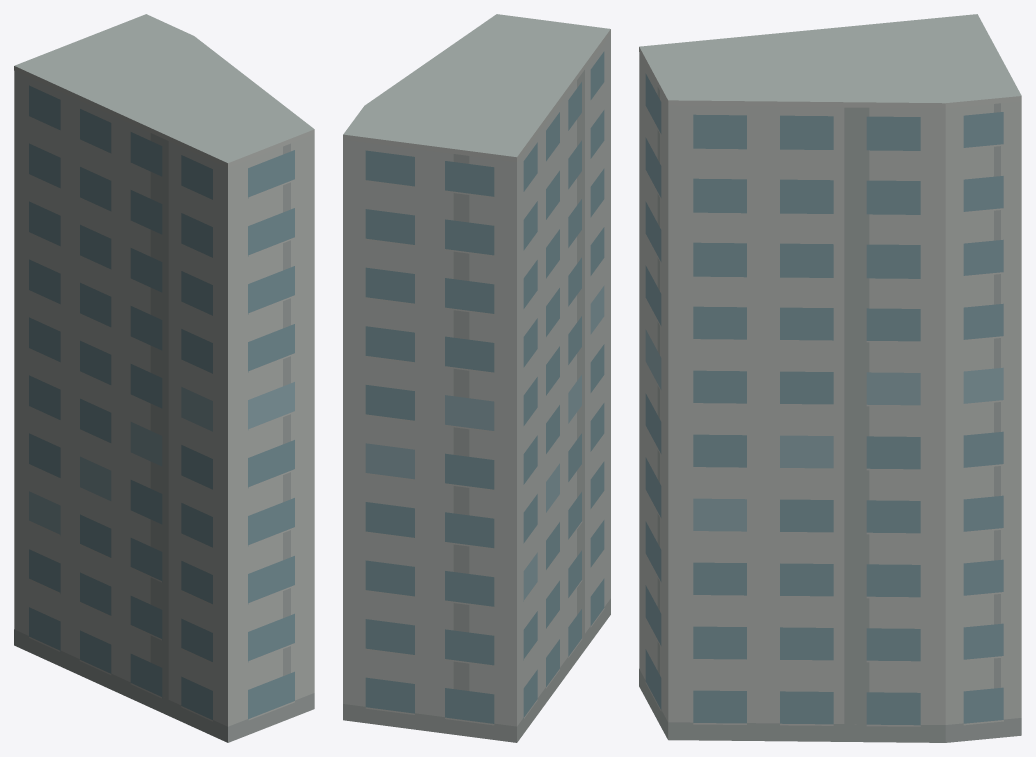
File: residential-6bc1f255-c7ef-4b0a-9a4b-20f3ecae8c85.glb
3 renders of one model, left to right at view 1: azimuth 30°, elevation 25°; view 2: azimuth 150°, elevation 25°; view 3: azimuth 270°, elevation 25°, orthographic. The views are drawn at different scales.
Visible parts, largest first — view 1: residential-6bc1f255-c7ef-4b0a-9a4b-20f3ecae8c85.tmp; view 2: residential-6bc1f255-c7ef-4b0a-9a4b-20f3ecae8c85.tmp; view 3: residential-6bc1f255-c7ef-4b0a-9a4b-20f3ecae8c85.tmp.
Part boxes in pixels (bbox=[...]): residential-6bc1f255-c7ef-4b0a-9a4b-20f3ecae8c85.tmp: bbox=[14, 14, 314, 742]; residential-6bc1f255-c7ef-4b0a-9a4b-20f3ecae8c85.tmp: bbox=[343, 14, 610, 742]; residential-6bc1f255-c7ef-4b0a-9a4b-20f3ecae8c85.tmp: bbox=[639, 14, 1021, 742].
Bounding box in the file's own units: 8.68 × 29 × 15.73.
